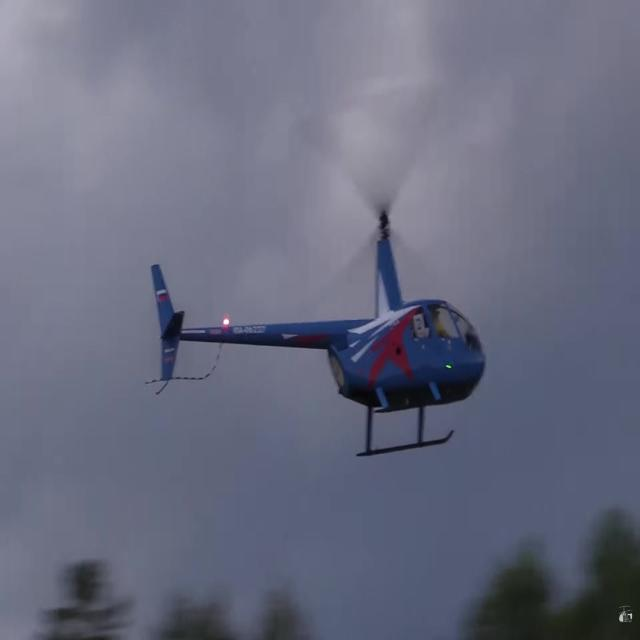CIV_HELO: (149, 211, 488, 459)
